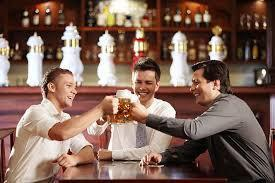Drunk: (131, 69, 158, 105), (55, 72, 79, 109), (189, 73, 211, 105)
